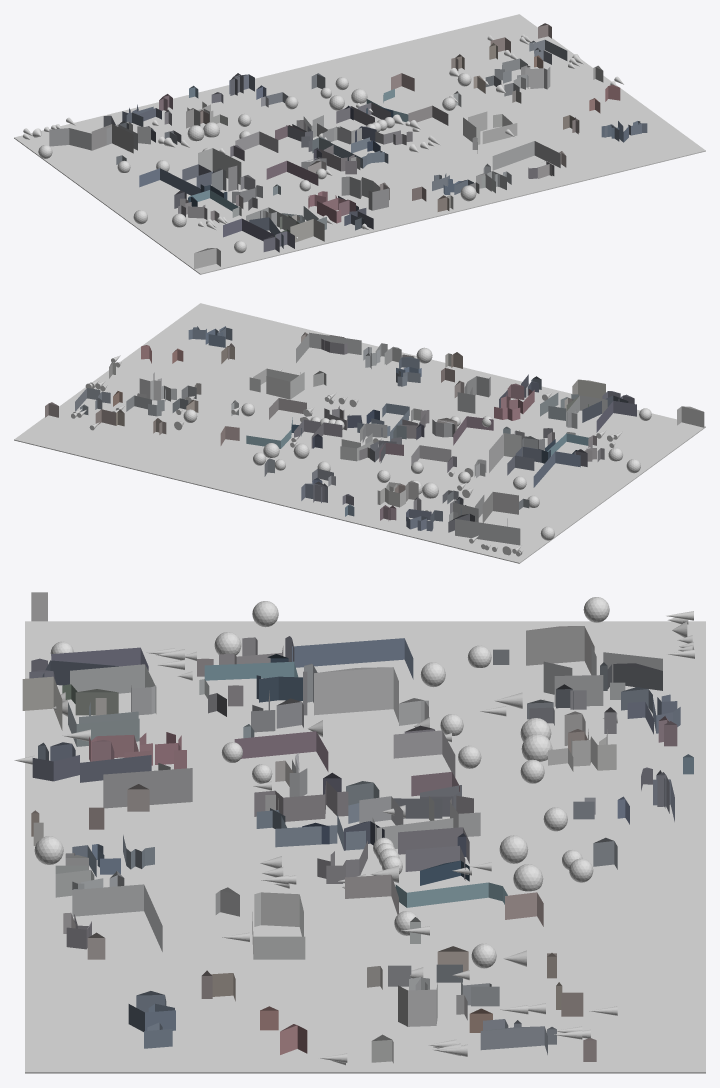
3 renders of one model, top to bottom at view 1: azimuth 30°, elevation 25°; view 2: azimuth 150°, elevation 25°; view 3: azimuth 270°, elevation 25°, orthographic. The views are drawn at different scales.
Visible parts, largest first — view 1: Ground_Base, BLD-015, BLD-119, BLD-115, BLD-012, BLD-086, BLD-087, BLD-094, BLD-093, BLD-051, BLD-128, BLD-122 (+11 smaller); view 2: Ground_Base, BLD-015, BLD-115, BLD-119, BLD-012, BLD-086, BLD-095, BLD-087, BLD-062, BLD-127, BLD-067, BLD-128 (+9 smaller); view 3: Ground_Base, BLD-086, BLD-115, BLD-087, BLD-119, BLD-012, BLD-015, BLD-112, BLD-049, BLD-051, BLD-129, BLD-093 (+27 smaller).
Boxes of the visible parts, <box> form: Ground_Base: <box>14,14,705,274</box>; BLD-015: <box>49,124,150,150</box>; BLD-119: <box>492,141,560,170</box>; BLD-115: <box>341,176,388,210</box>; BLD-012: <box>91,124,133,153</box>; BLD-086: <box>198,148,241,184</box>; BLD-087: <box>139,168,200,195</box>; BLD-094: <box>482,114,517,143</box>; BLD-093: <box>266,160,318,185</box>; BLD-051: <box>330,137,384,168</box>; BLD-128: <box>223,218,274,241</box>; BLD-122: <box>290,219,324,242</box>; Ground_Base: <box>14,303,705,563</box>; BLD-015: <box>453,495,520,545</box>; BLD-115: <box>457,376,490,413</box>; BLD-119: <box>296,332,361,362</box>; BLD-012: <box>482,492,518,522</box>; BLD-086: <box>489,433,521,472</box>; BLD-095: <box>266,372,304,399</box>; BLD-087: <box>533,451,580,487</box>; BLD-062: <box>340,423,373,461</box>; BLD-127: <box>540,392,578,420</box>; BLD-067: <box>411,445,451,464</box>; BLD-128: <box>596,401,636,432</box>; Ground_Base: <box>25,621,705,1073</box>; BLD-086: <box>314,667,398,722</box>; BLD-115: <box>103,763,192,808</box>; BLD-087: <box>292,638,413,679</box>; BLD-119: <box>72,884,162,951</box>; BLD-012: <box>526,626,594,674</box>; BLD-015: <box>543,645,662,706</box>; BLD-112: <box>32,755,151,782</box>; BLD-049: <box>254,781,348,821</box>; BLD-051: <box>270,803,365,850</box>; BLD-129: <box>70,664,156,713</box>; BLD-093: <box>234,731,328,771</box>.
Size of the model in its own units: 244 by 14.62 by 157.
